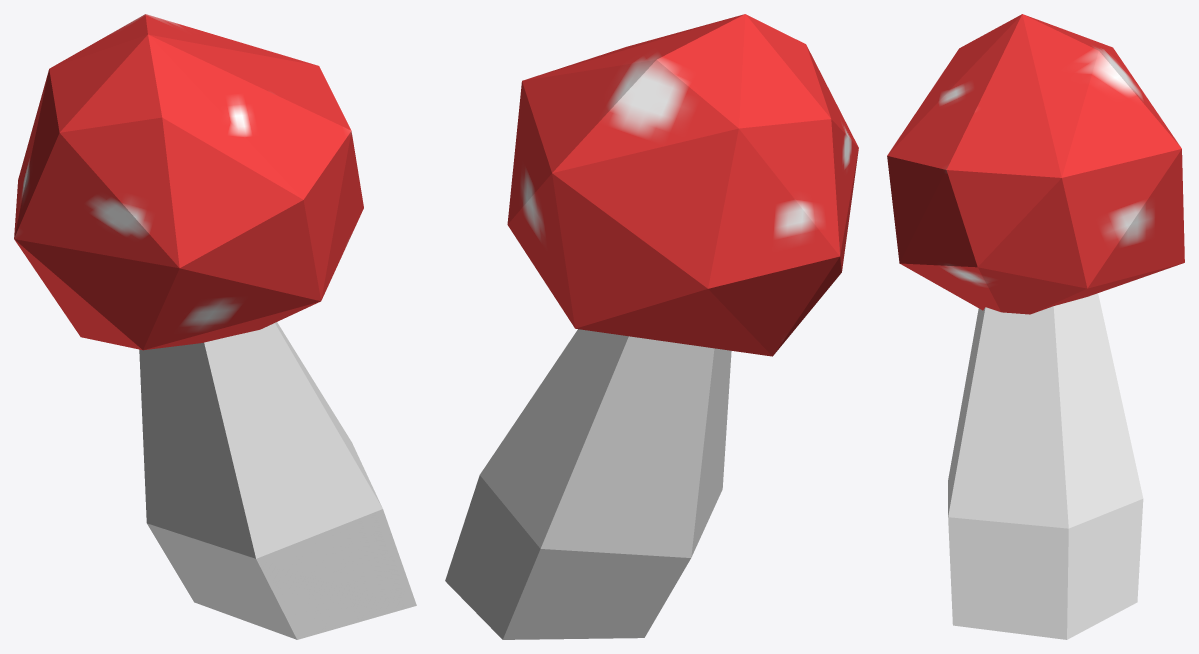
The model's file is Mushroom_e_05.fbx.
3 views of the same model, side by side, from view 1: azimuth 30°, elevation 25°; view 2: azimuth 150°, elevation 25°; view 3: azimuth 270°, elevation 25° (orthographic). The views are drawn at different scales.
Visible parts, largest first — view 1: Mushroom_e_05; view 2: Mushroom_e_05; view 3: Mushroom_e_05.
Boxes of the visible parts, x1,y1,x2,y2 form: Mushroom_e_05: (14,14,416,639); Mushroom_e_05: (445,14,858,639); Mushroom_e_05: (887,14,1184,639).
Bounding box in the file's own units: 10.69 × 16.31 × 8.45.
